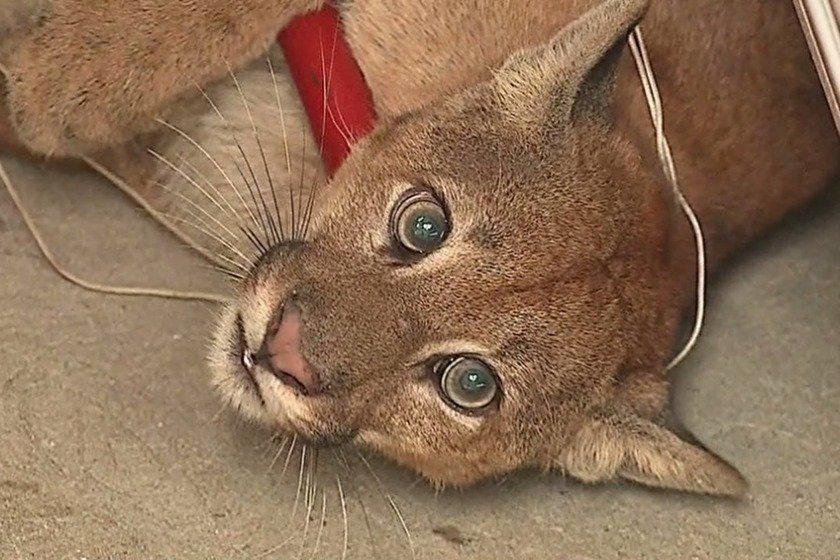OncaParda: (37, 5, 798, 507)
